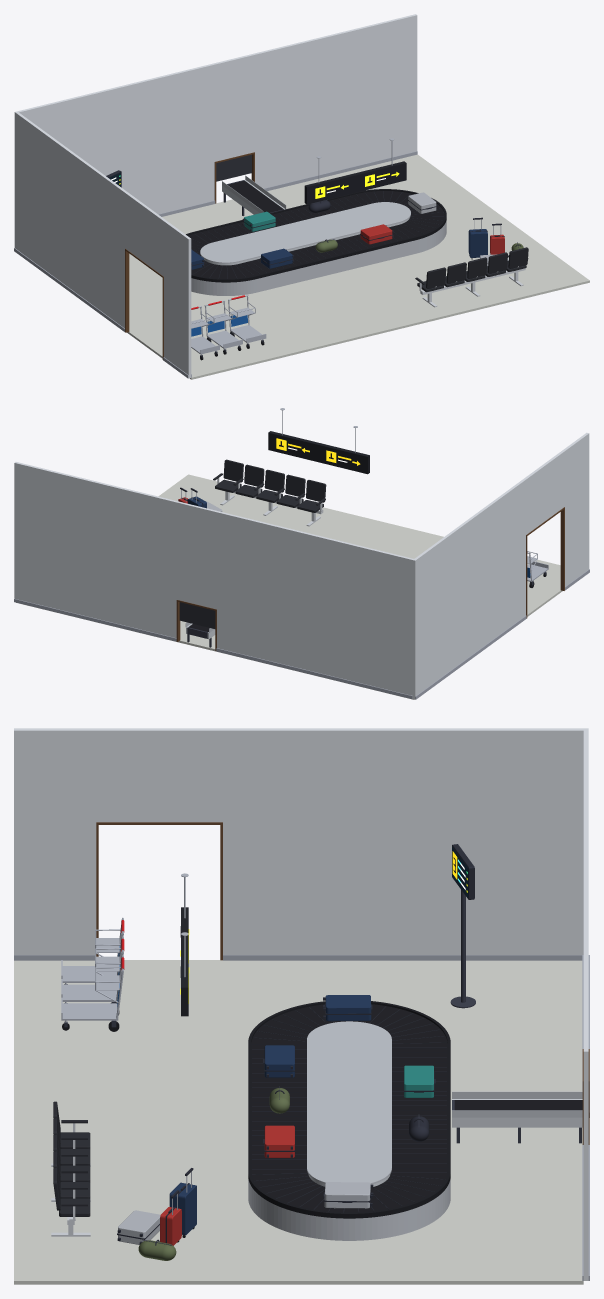
The model's file is air-016.glb.
3 views of the same model, one above another, from view 1: azimuth 30°, elevation 25°; view 2: azimuth 150°, elevation 25°; view 3: azimuth 270°, elevation 25° (orthographic). The views are drawn at different scales.
Parts seen in each view (by area): view 1: wall, terminal_floor, stainless, conveyor_belt, seat_upholstery, steel, sign_panel, rubber, plastic_dark, skirting, shell_navy, walnut (+6 smaller); view 2: wall, terminal_floor, seat_upholstery, skirting, sign_panel, walnut, lead_curtain, steel, chrome; view 3: terminal_floor, wall, conveyor_belt, stainless, plastic_dark, steel, skirting, rubber, seat_upholstery, shell_navy, shell_silver, counter_panel (+6 smaller).
Part boxes in pixels (<box>): wall: <box>14,14,417,378</box>; terminal_floor: <box>127,154,589,379</box>; stainless: <box>191,175,446,295</box>; conveyor_belt: <box>187,180,444,278</box>; seat_upholstery: <box>415,247,528,292</box>; steel: <box>191,138,501,355</box>; sign_panel: <box>304,161,406,204</box>; rubber: <box>186,189,472,360</box>; plastic_dark: <box>106,170,521,278</box>; skirting: <box>14,151,417,378</box>; shell_navy: <box>191,229,487,269</box>; walnut: <box>125,152,254,359</box>; wall: <box>14,432,589,699</box>; terminal_floor: <box>16,474,562,699</box>; seat_upholstery: <box>213,459,326,512</box>; skirting: <box>14,569,589,699</box>; sign_panel: <box>268,431,369,474</box>; walnut: <box>176,507,564,650</box>; lead_curtain: <box>179,602,215,628</box>; steel: <box>181,408,548,581</box>; chrome: <box>217,478,323,526</box>; terminal_floor: <box>14,960,583,1284</box>; wall: <box>14,728,588,1280</box>; conveyor_belt: <box>251,1004,582,1212</box>; stainless: <box>248,1021,582,1240</box>; plastic_dark: <box>117,844,474,1245</box>; steel: <box>61,873,191,1214</box>; skirting: <box>14,955,589,1280</box>; rubber: <box>62,1001,450,1242</box>; seat_upholstery: <box>53,1101,90,1216</box>; shell_navy: <box>169,995,371,1235</box>; shell_silver: <box>118,1182,370,1244</box>; counter_panel: <box>308,1099,582,1186</box>.
Size of the model in its own units: 12.1 by 4.06 by 9.1.
